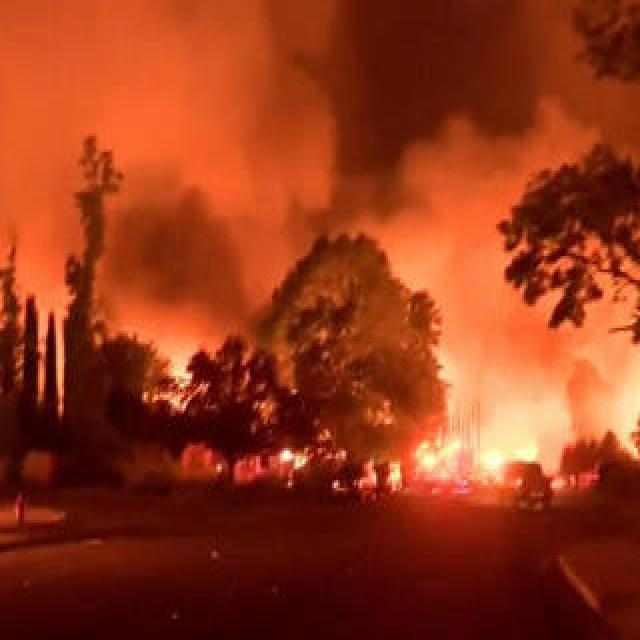Smoke: (342, 59, 640, 498), (0, 0, 347, 363)
